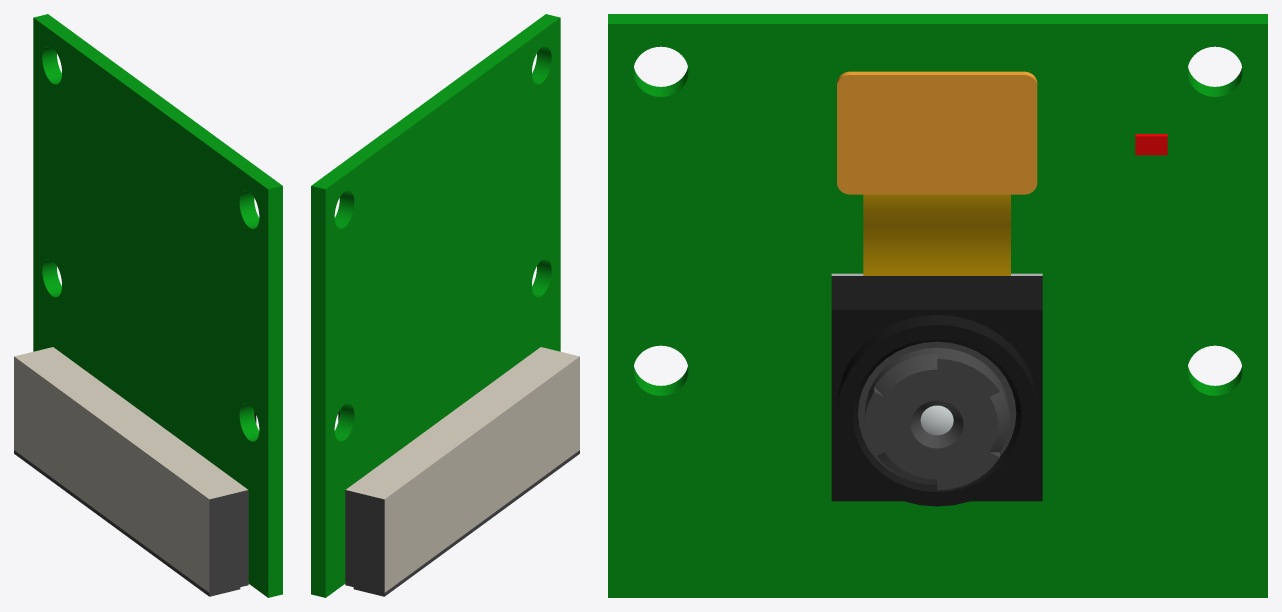
Rendered from rpi_camera.dae.
3 views of the same model, side by side, from view 1: azimuth 30°, elevation 25°; view 2: azimuth 150°, elevation 25°; view 3: azimuth 270°, elevation 25° (orthographic). The views are drawn at different scales.
Visible parts, largest first — view 1: SHELL.002, SHELL.001; view 2: SHELL.002, SHELL.001; view 3: SHELL.002, SHELL.004, SHELL.007, SHELL.005, SHELL.006.
Boxes of the visible parts, x1=… form: SHELL.002: x1=14, y1=14, x2=282, y2=597; SHELL.001: x1=14, y1=450, x2=248, y2=596; SHELL.002: x1=311, y1=14, x2=579, y2=597; SHELL.001: x1=345, y1=450, x2=579, y2=596; SHELL.002: x1=608, y1=14, x2=1267, y2=597; SHELL.004: x1=831, y1=276, x2=1042, y2=506; SHELL.007: x1=837, y1=71, x2=1037, y2=194; SHELL.005: x1=858, y1=341, x2=1016, y2=490; SHELL.006: x1=863, y1=194, x2=1010, y2=275.
Size of the model in its own units: 0.00825 by 0.025 by 0.0242.
